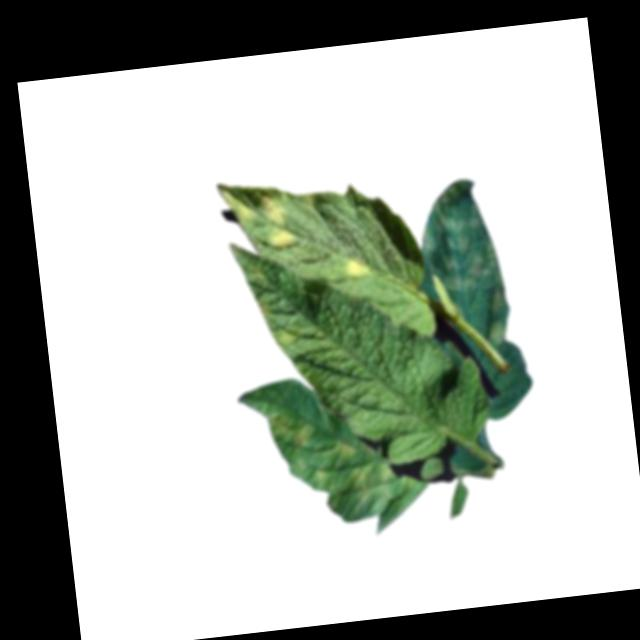Leaf_Mold: (260, 393, 420, 526), (413, 174, 514, 351), (216, 173, 302, 258), (272, 316, 311, 350), (343, 255, 375, 284)
